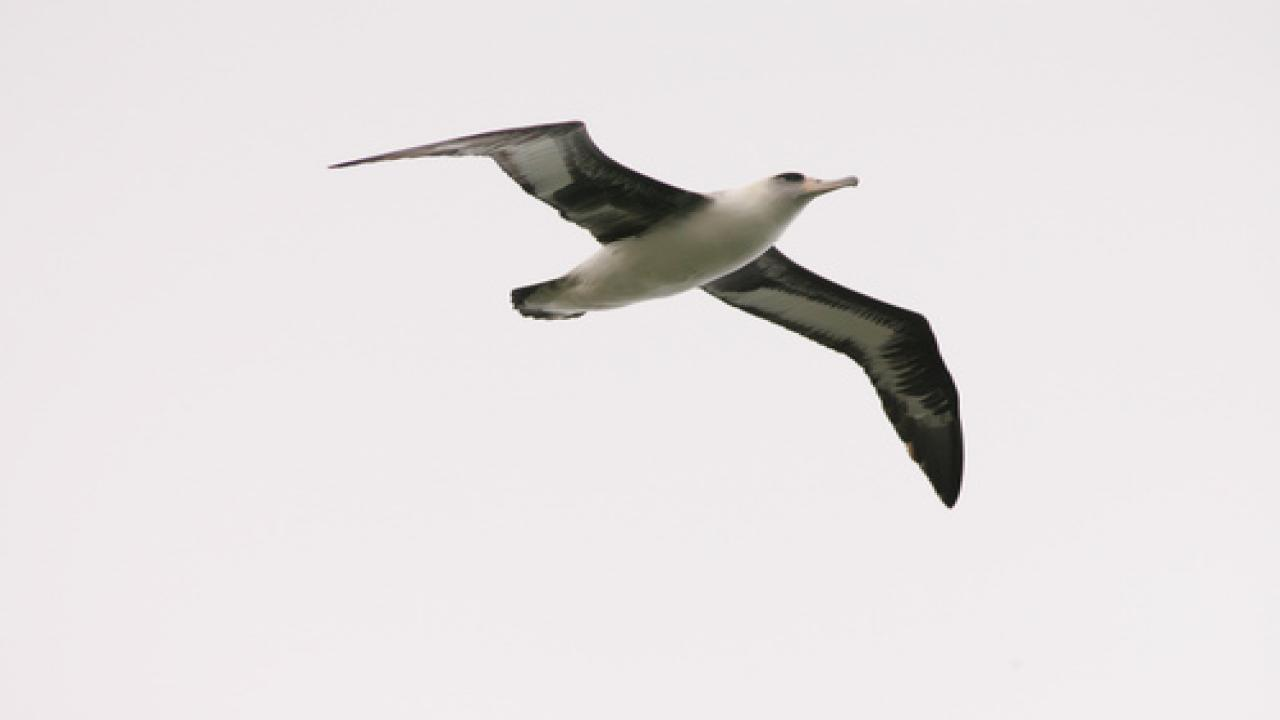Bird: (318, 108, 974, 517)
